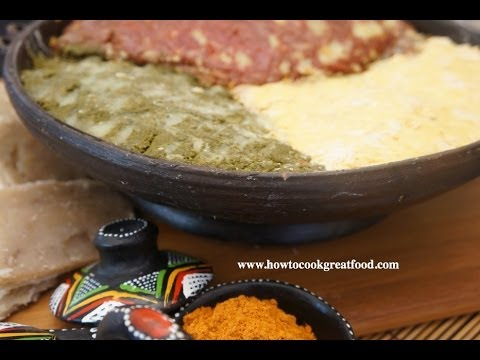ground_beef: (140, 23, 315, 69)
